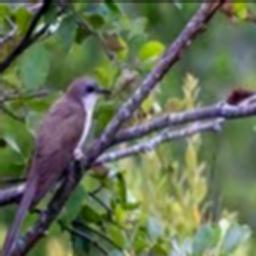Cuckoo: (0, 77, 110, 256)
